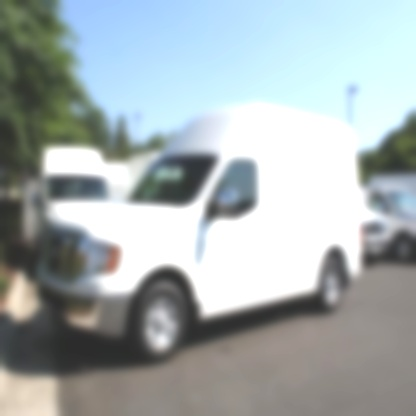Vehicle: (32, 101, 367, 368)
